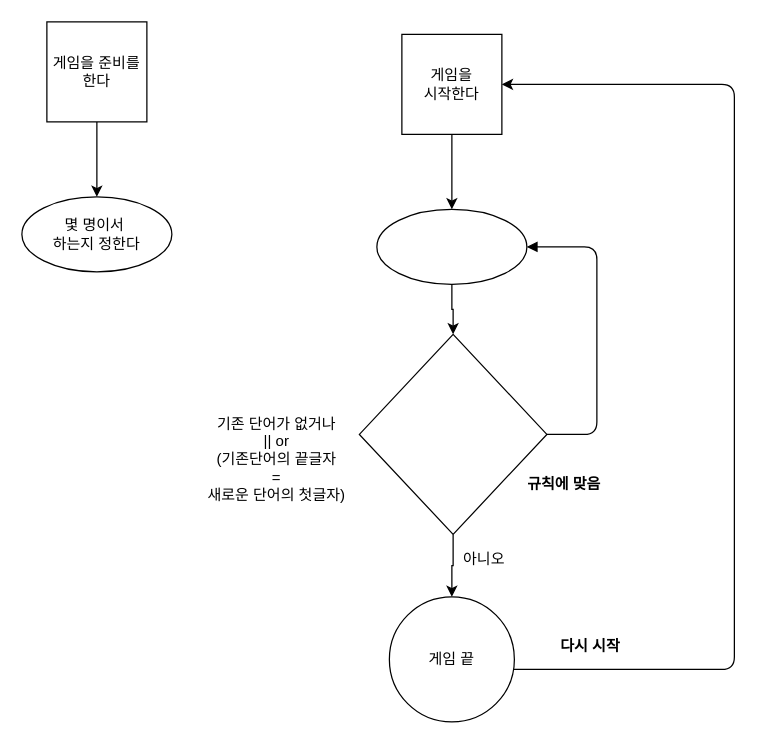
This 766x744 diagram has some shape labels left out. The shapes that lost their labels are listed below. From the top down, each one's centre as x and y in pixels, then its label:
point 451,246: 자기차례사람이 단어를 말한다
point 452,433: 규칙에 맞는 단어인가 ------ + 세글자단어인가
